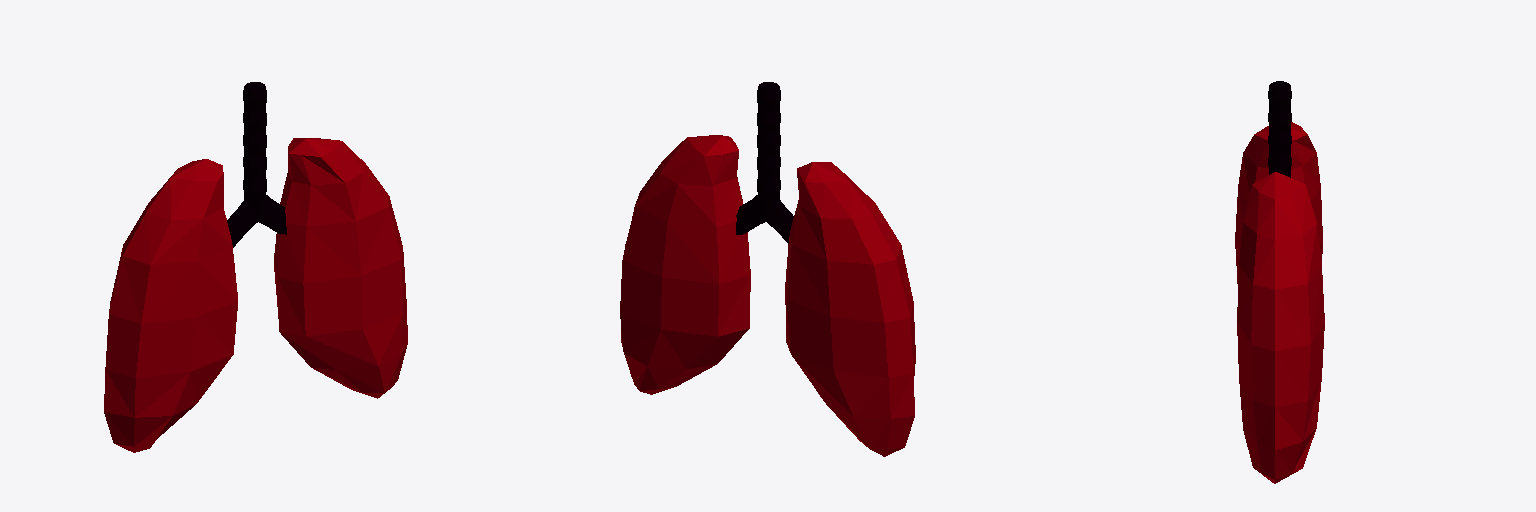
File: Lungs.obj
3 renders of one model, left to right at view 1: azimuth 30°, elevation 25°; view 2: azimuth 150°, elevation 25°; view 3: azimuth 270°, elevation 25°, orthographic.
Visible parts, largest first — view 1: Poumons PoumonG, Poumons PoumonG1, Trachee Poumons; view 2: Poumons PoumonG, Poumons PoumonG1, Trachee Poumons; view 3: Poumons PoumonG1, Poumons PoumonG, Trachee Poumons.
Boxes of the visible parts, box(x1,y1,x2,y2) form: Poumons PoumonG: box(104, 159, 237, 452); Poumons PoumonG1: box(274, 138, 407, 398); Trachee Poumons: box(227, 82, 286, 247); Poumons PoumonG: box(785, 162, 915, 456); Poumons PoumonG1: box(620, 135, 750, 394); Trachee Poumons: box(736, 82, 793, 243); Poumons PoumonG1: box(1237, 172, 1324, 483); Poumons PoumonG: box(1235, 122, 1322, 283); Trachee Poumons: box(1268, 81, 1291, 177).
Size of the model in its own units: 368 by 399 by 95.69.